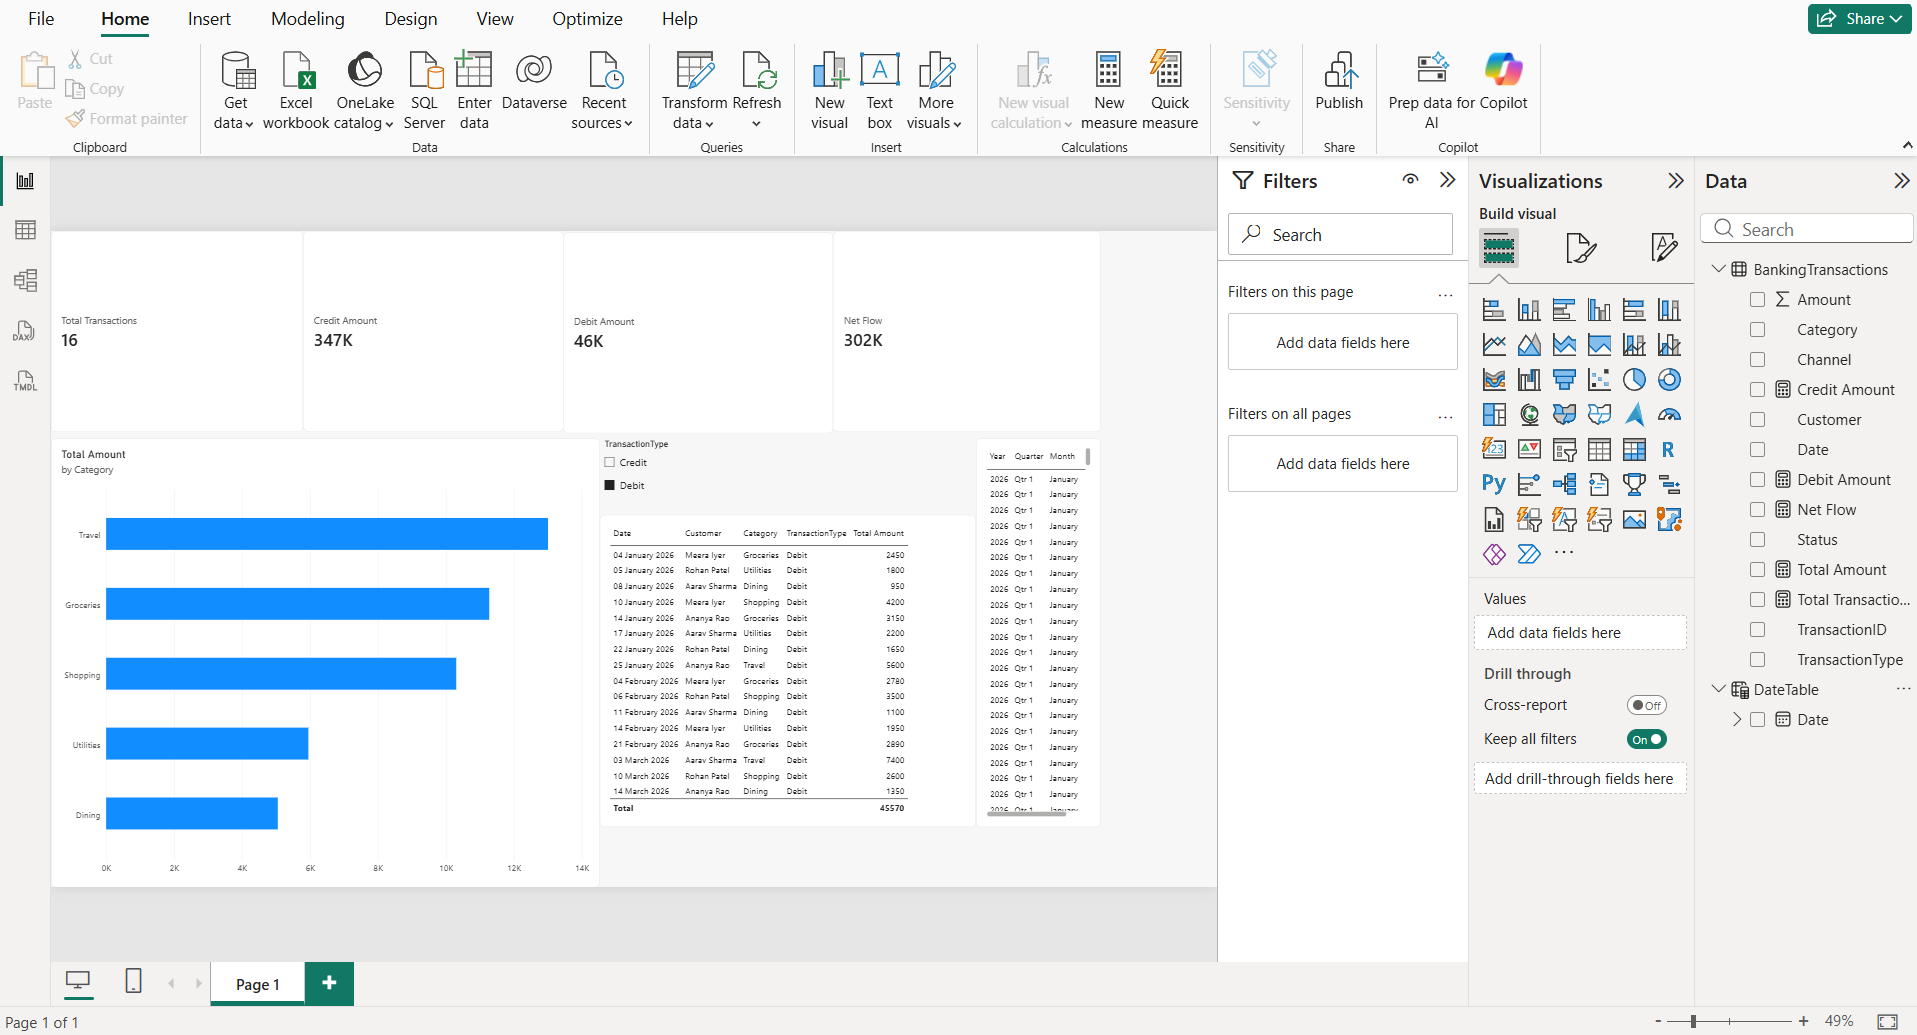

The page's visual inventory and layout, read from the dashboard file:
{"tool":"powerbi","page":{"name":"Page 1","canvas":[1920,1080],"ordinal":0},"visuals":[{"type":"cardVisual","fields":{"Data":["BankingTransactions.Total Transactions"]},"box":[0,0,415.8,331.4],"z":0},{"type":"cardVisual","fields":{"Data":["BankingTransactions.Credit Amount"]},"box":[415.8,0,428.1,331.4],"z":1},{"type":"cardVisual","fields":{"Data":["BankingTransactions.Debit Amount"]},"box":[843.9,2.1,444.6,331.4],"z":2},{"type":"cardVisual","fields":{"Data":["BankingTransactions.Net Flow"]},"box":[1288.5,0,440.5,331.4],"z":3},{"type":"clusteredBarChart","fields":{"Category":["BankingTransactions.Category"],"Y":["BankingTransactions.Total Amount"]},"box":[0,341.7,903.6,738.9],"z":4},{"type":"slicer","fields":{"Values":["BankingTransactions.TransactionType"]},"box":[903.6,341.7,605.1,125.6],"z":5},{"type":"tableEx","fields":{"Values":["BankingTransactions.Date.Variation.Date Hierarchy.Year","BankingTransactions.Customer","BankingTransactions.Category","BankingTransactions.TransactionType","BankingTransactions.Total Amount"]},"box":[903.6,467.2,619.6,514.6],"z":6},{"type":"tableEx","fields":{"Values":["DateTable.Date.Variation.Date Hierarchy.Year","DateTable.Date.Variation.Date Hierarchy.Quarter","DateTable.Date.Variation.Date Hierarchy.Month","DateTable.Date.Variation.Date Hierarchy.Day"]},"box":[1523.2,341.7,205.8,640.1],"z":7}]}

Visuals, with their boxes on the page's 1920x1080 design canvas (x1, y1, x2, y2). These are canvas units, not pixel positions in the 1917x1035 screenshot, which may show the page scaled, cropped or inside an application window:
cardVisual - BankingTransactions.Total Transactions: [0,0,416,331]
cardVisual - BankingTransactions.Credit Amount: [416,0,844,331]
cardVisual - BankingTransactions.Debit Amount: [844,2,1288,334]
cardVisual - BankingTransactions.Net Flow: [1288,0,1729,331]
clusteredBarChart - BankingTransactions.Category x BankingTransactions.Total Amount: [0,342,904,1081]
slicer - BankingTransactions.TransactionType: [904,342,1509,467]
tableEx - BankingTransactions.Date.Variation.Date Hierarchy.Year x BankingTransactions.Customer: [904,467,1523,982]
tableEx - DateTable.Date.Variation.Date Hierarchy.Year x DateTable.Date.Variation.Date Hierarchy.Quarter: [1523,342,1729,982]
